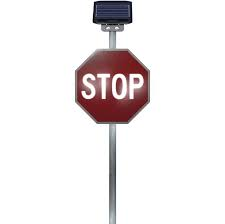stop sign: (76, 48, 151, 123)
